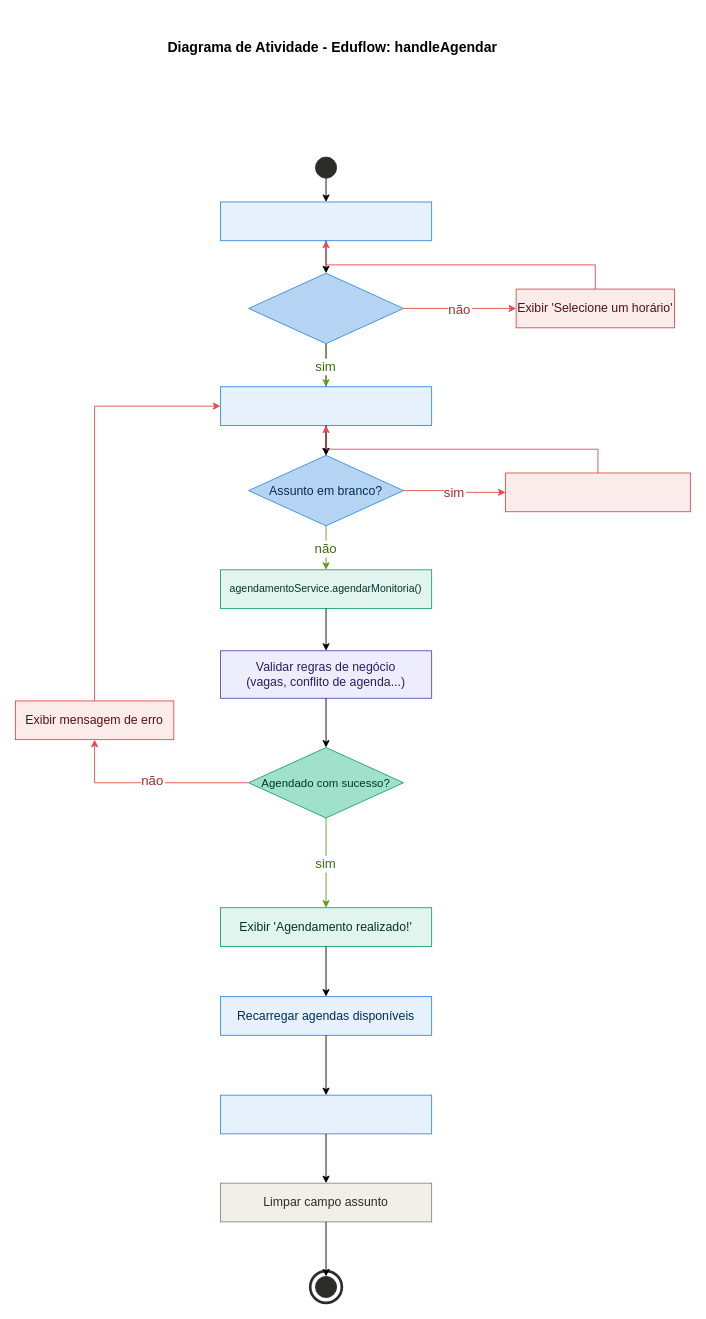
The diagram is 706 pixels wide and 1319 high, and some of its shapes have lost their labels. The shapes that lost their labels are listed below. From the top down, each one's box as (x1, y1, x2, y2) in pixels, then its label:
(220, 201, 432, 241): Ocultar mensagens anteriores
(248, 272, 403, 344): Horário selecionado?
(220, 386, 432, 425): Ler assunto digitado
(505, 472, 690, 512): Exibir 'Descreva o assunto da dúvida.'
(220, 1094, 432, 1134): Recarregar meus agendamentos
